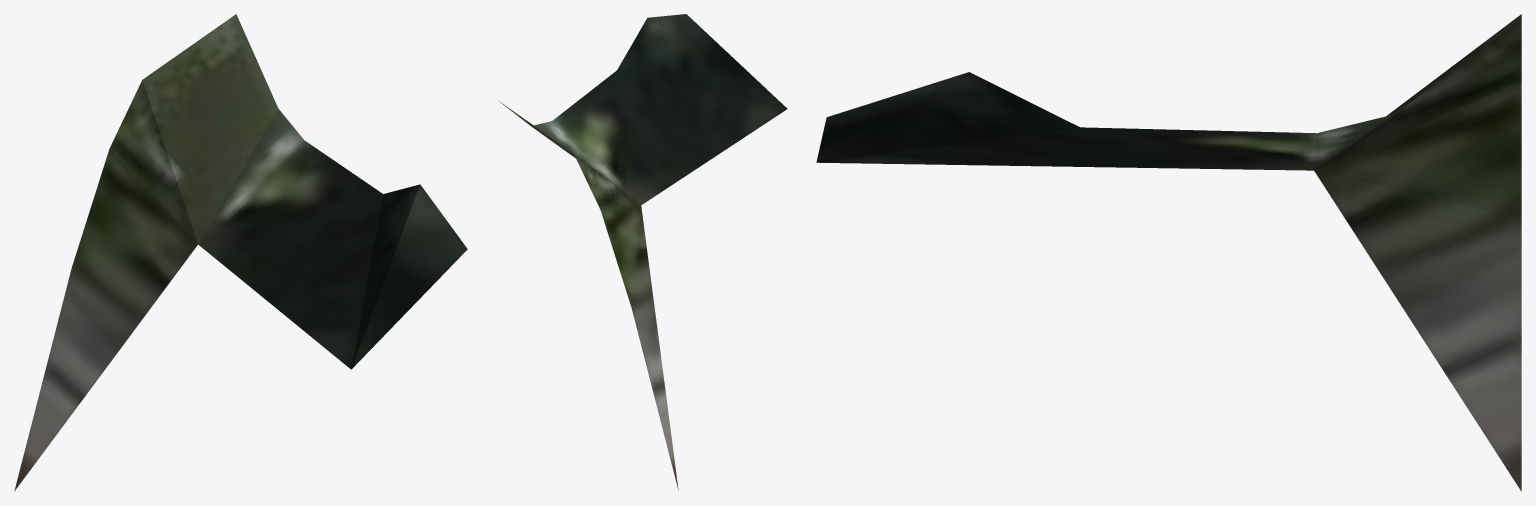
The picture shows the model from 3 angles, left to right: view 1: azimuth 30°, elevation 25°; view 2: azimuth 150°, elevation 25°; view 3: azimuth 270°, elevation 25°; orthographic projection. The views are drawn at different scales.
Size of the model in its own units: 0.5196 by 0.9471 by 0.9515.
1 material, 1 textured.
